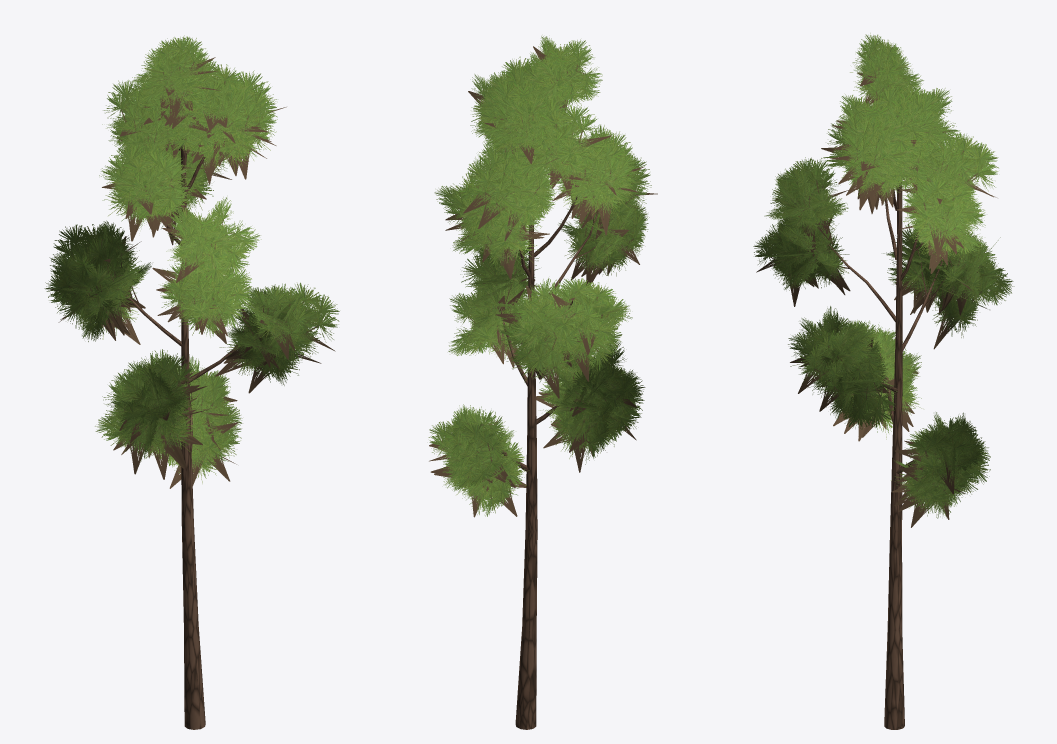
The model's file is veg_longleaf_pine_b.fbx.
3 views of the same model, side by side, from view 1: azimuth 30°, elevation 25°; view 2: azimuth 150°, elevation 25°; view 3: azimuth 270°, elevation 25° (orthographic). The views are drawn at different scales.
Visible parts, largest first — view 1: veg_longleaf_pine_b_LOD0; view 2: veg_longleaf_pine_b_LOD0; view 3: veg_longleaf_pine_b_LOD0.
Boxes of the visible parts, x1,y1,x2,y2 form: veg_longleaf_pine_b_LOD0: [44, 35, 339, 729]; veg_longleaf_pine_b_LOD0: [428, 36, 657, 729]; veg_longleaf_pine_b_LOD0: [753, 33, 1014, 729].
Size of what is drawn, in the model's own units: 5.86 by 14.64 by 6.28.
2 materials, 2 textured.
